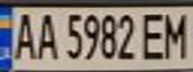2: (115, 10, 142, 61)
5: (60, 10, 84, 61)
8: (100, 11, 121, 62)
9: (81, 10, 100, 61)
A: (9, 9, 39, 61), (33, 9, 60, 61)
E: (139, 9, 169, 61)
M: (160, 9, 193, 60)
